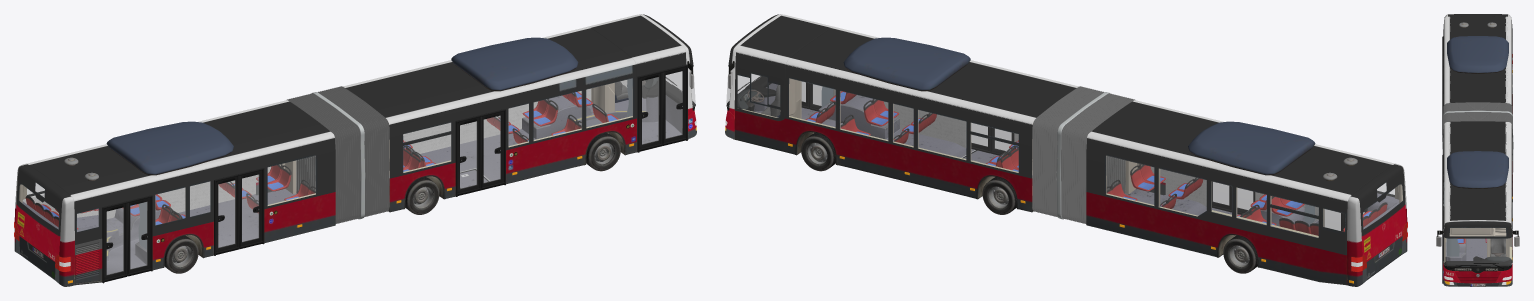
Rendered from bus.glb.
3 views of the same model, side by side, from view 1: azimuth 30°, elevation 25°; view 2: azimuth 150°, elevation 25°; view 3: azimuth 270°, elevation 25° (orthographic). The views are drawn at different scales.
Visible parts, largest first — view 1: articulated bus.001, axis.001, Glass, big dashboard.001, lower body.002; view 2: articulated bus.001, lower body.002, Glass, big dashboard.001, axis.001; view 3: articulated bus.001, big dashboard.001, Glass, axis.001, lower body.002.
Part boxes in pixels (box(x1,y1,x2,y2)): articulated bus.001: box(14, 14, 696, 283); axis.001: box(22, 64, 695, 283); Glass: box(19, 67, 695, 274); big dashboard.001: box(14, 37, 695, 286); lower body.002: box(74, 118, 688, 285); articulated bus.001: box(725, 14, 1407, 283); lower body.002: box(733, 110, 1347, 285); Glass: box(726, 67, 1402, 237); big dashboard.001: box(726, 37, 1407, 286); axis.001: box(738, 76, 1399, 237); articulated bus.001: box(1443, 14, 1512, 286); big dashboard.001: box(1436, 14, 1519, 286); Glass: box(1443, 228, 1512, 266); axis.001: box(1442, 36, 1512, 283); lower body.002: box(1512, 61, 1512, 262).
Size of the model in its own units: 20.45 by 3.47 by 3.38.
5 materials, 4 textured.
